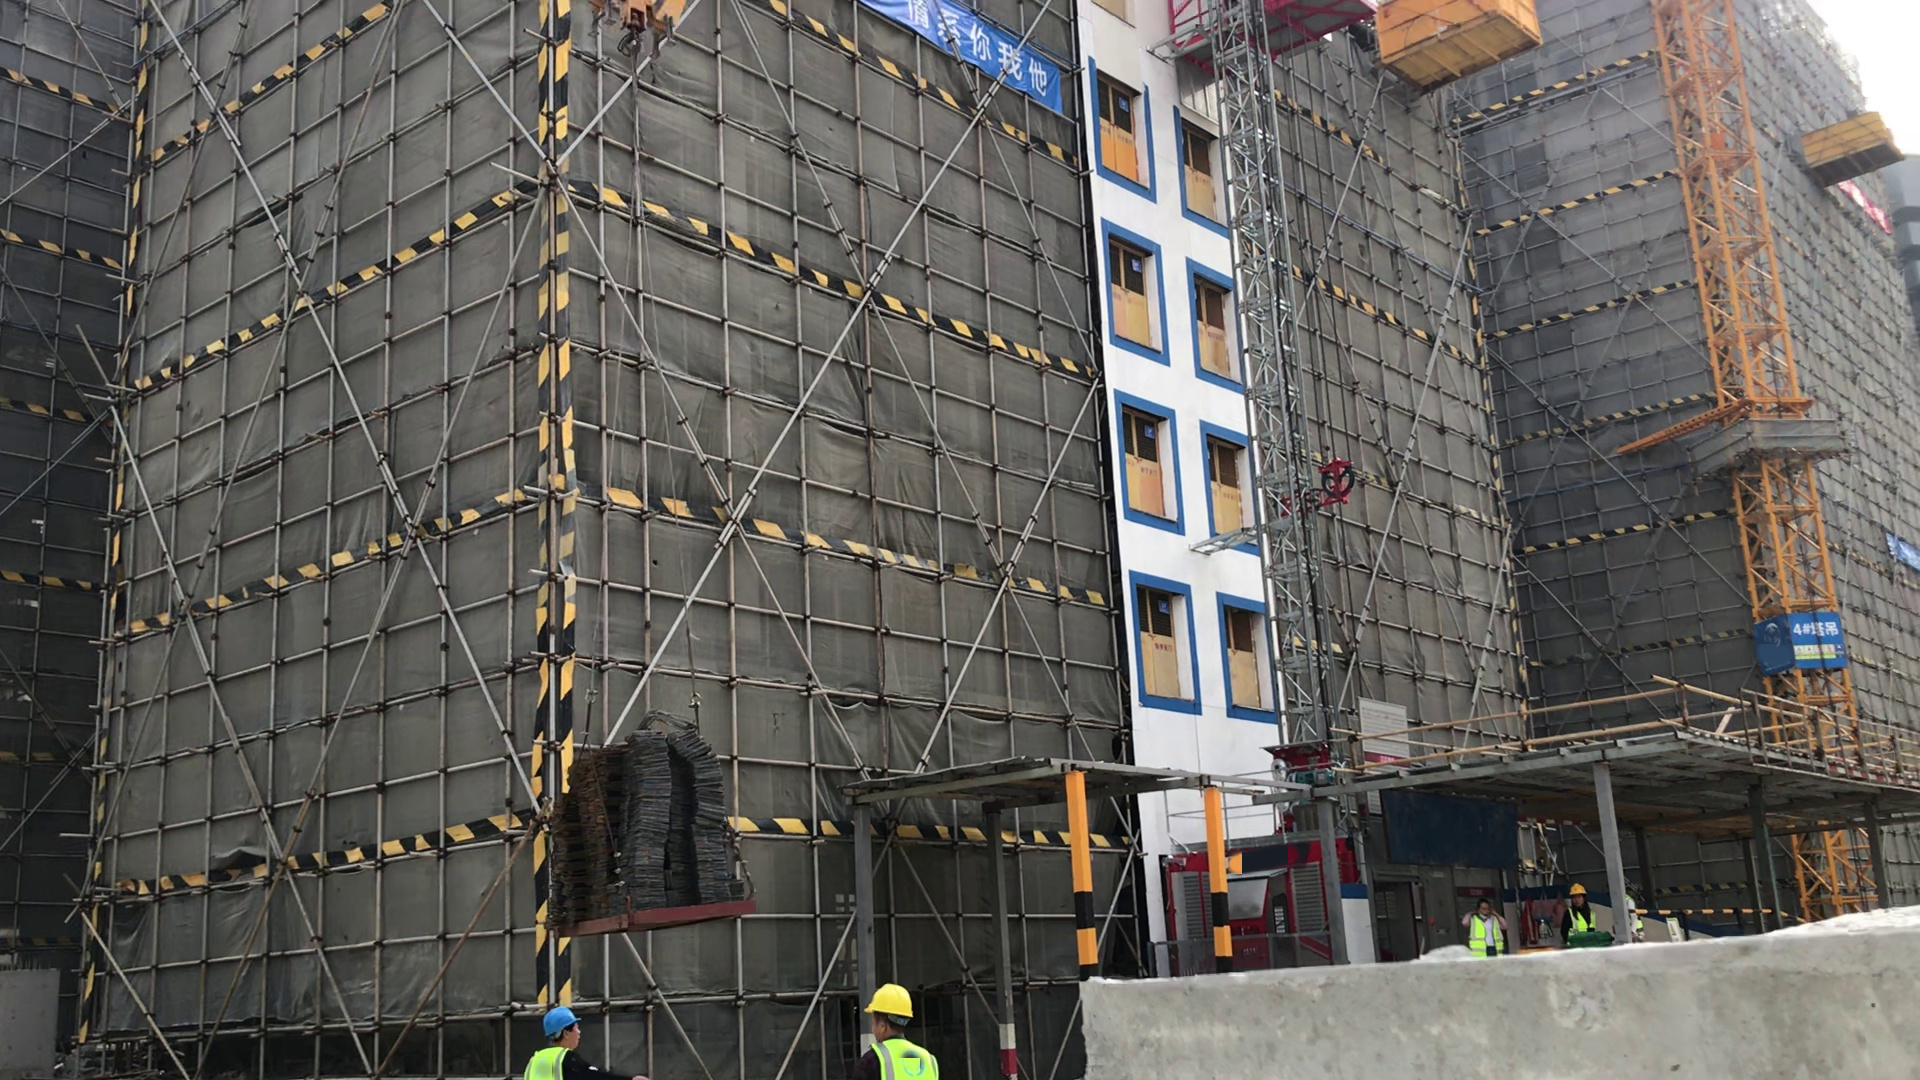helmet: (863, 981, 911, 1024), (541, 1004, 580, 1035), (1568, 883, 1586, 898)
hook: (583, 1, 681, 64)
person: (825, 980, 939, 1080), (518, 1004, 648, 1080), (1458, 897, 1512, 958), (1555, 882, 1600, 938), (1625, 887, 1645, 946)
slogan: (862, 5, 1063, 109), (1795, 642, 1836, 662)
vest: (869, 1039, 938, 1080), (1469, 915, 1503, 958), (526, 1047, 568, 1080), (1566, 907, 1596, 938)
